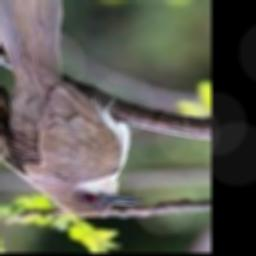Cuckoo: (0, 0, 144, 218)
